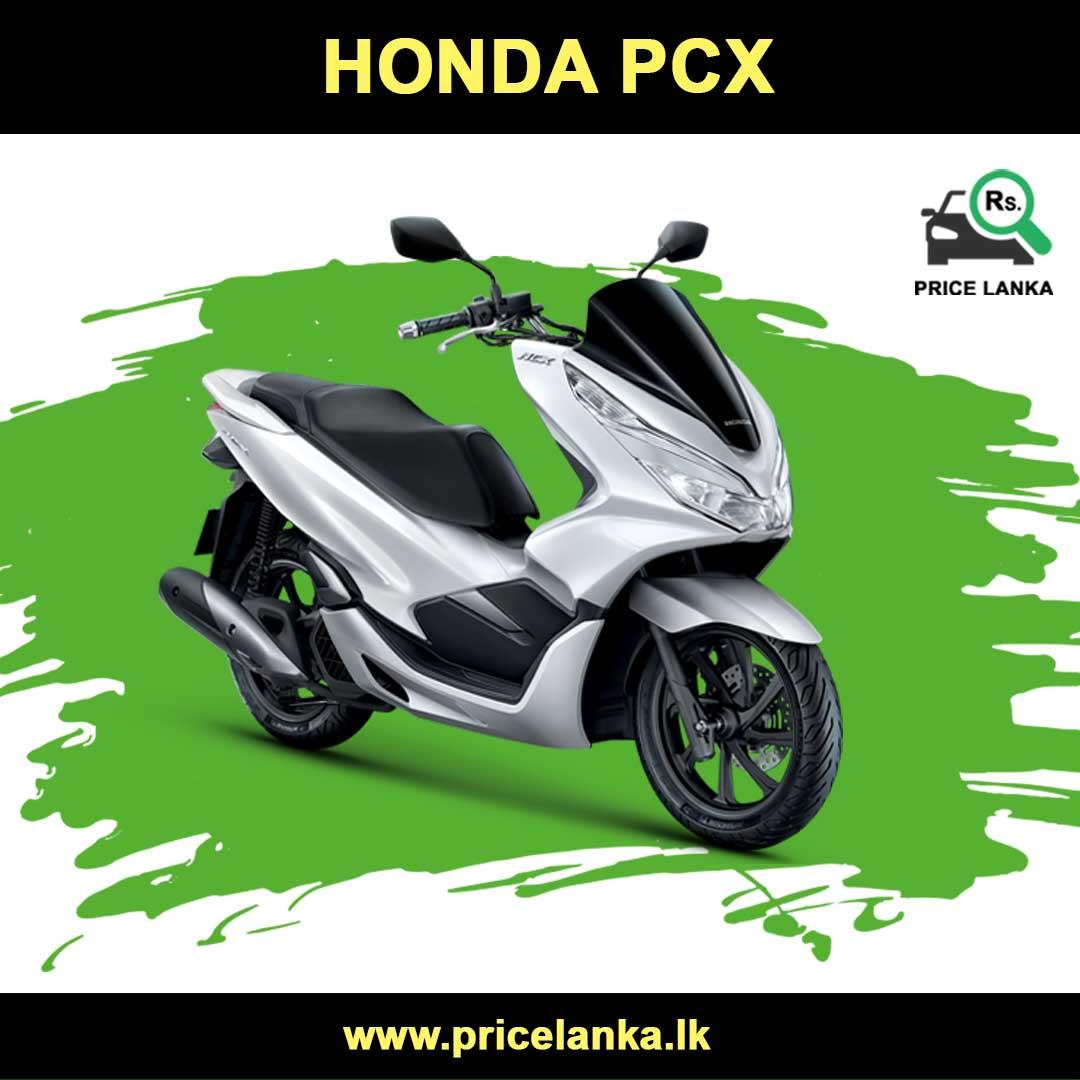motorbike: (157, 217, 843, 852)
